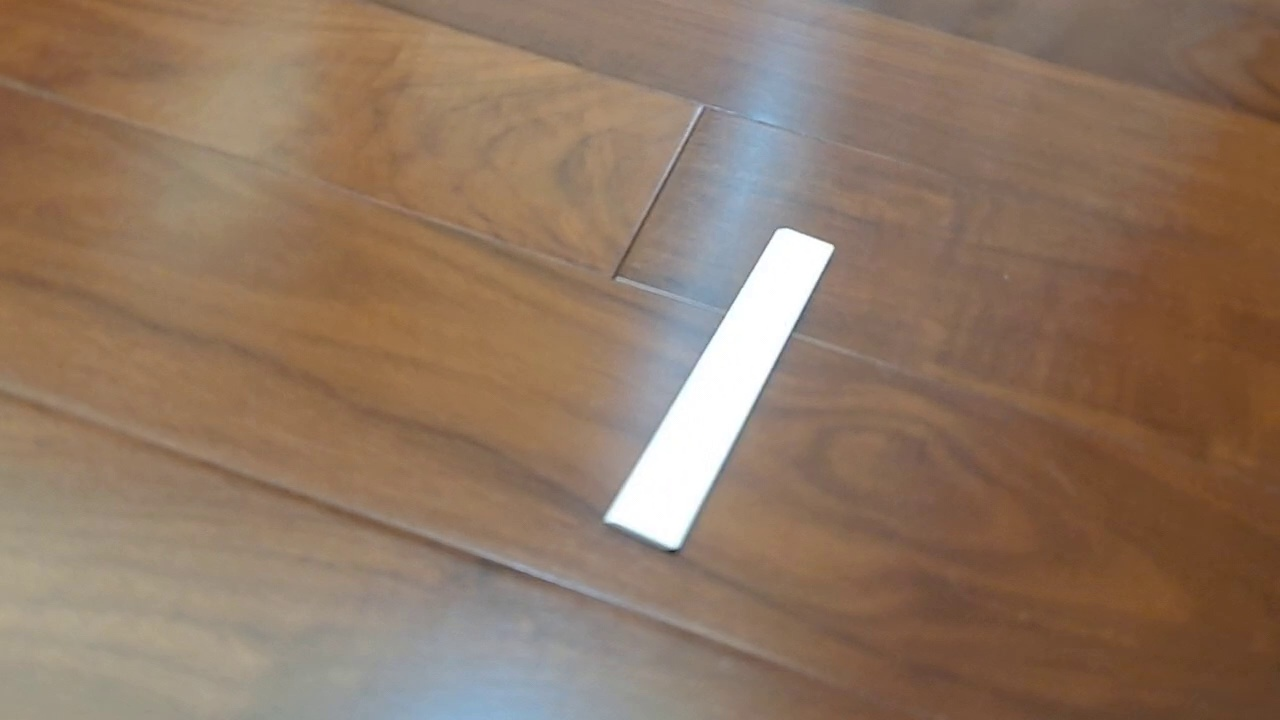ruler: (602, 225, 836, 555)
